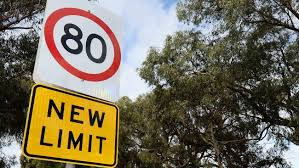Speed_limit_80km: (43, 7, 121, 82)
